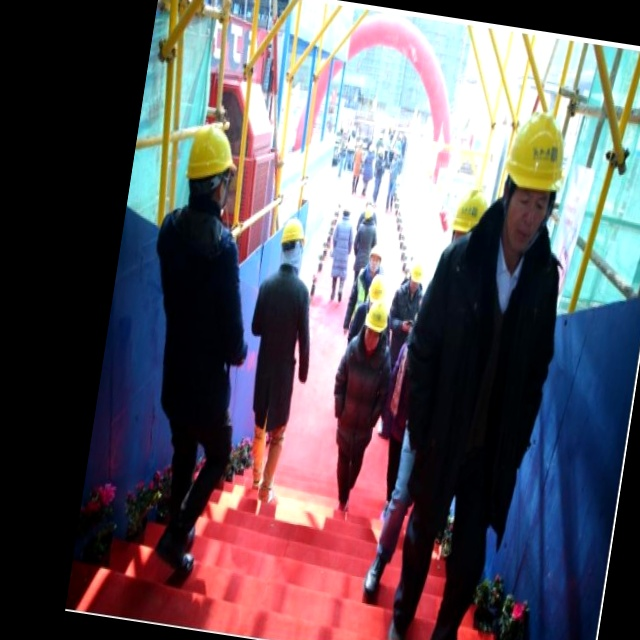Sin_Casco_Mascarrilla: (494, 109, 571, 254), (180, 125, 242, 218), (277, 218, 310, 272)
